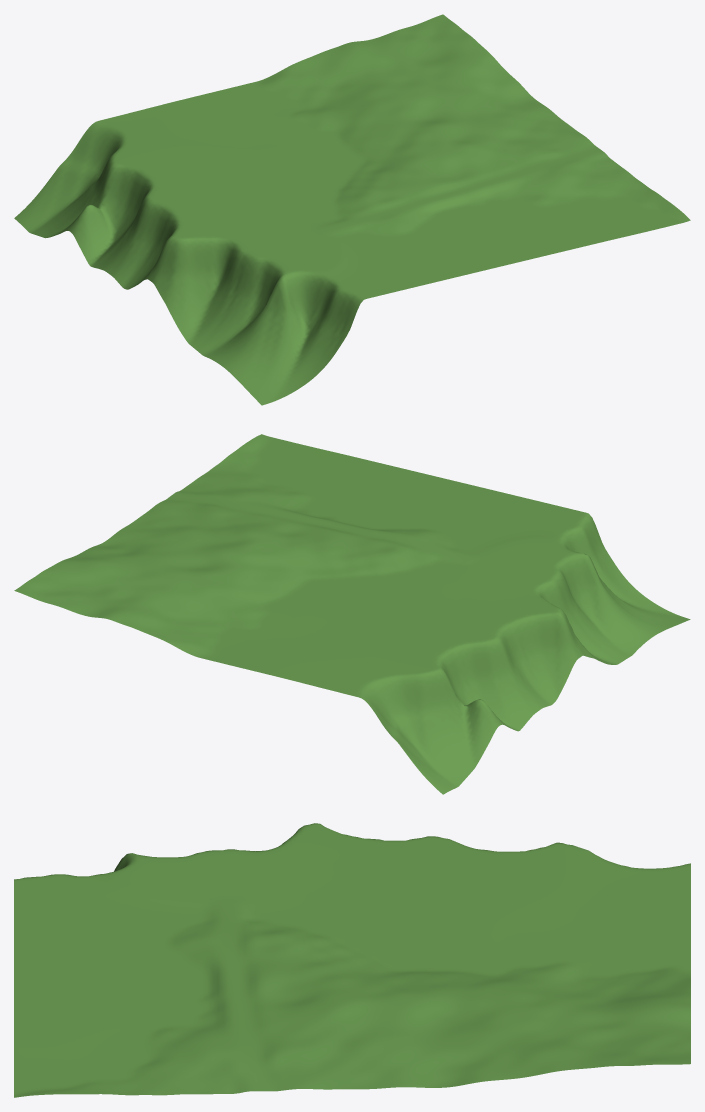
File: SM_Terrain_01_04.fbx
The picture shows the model from 3 angles, top to bottom: view 1: azimuth 30°, elevation 25°; view 2: azimuth 150°, elevation 25°; view 3: azimuth 270°, elevation 25°; orthographic projection. The views are drawn at different scales.
Visible parts, largest first — view 1: SM_Terrain_01_04; view 2: SM_Terrain_01_04; view 3: SM_Terrain_01_04.
Part boxes in pixels (x1,y1,x2,y2): SM_Terrain_01_04: [14, 14, 690, 405]; SM_Terrain_01_04: [14, 434, 690, 794]; SM_Terrain_01_04: [14, 823, 690, 1097].
Size of the model in its own units: 384 by 89.98 by 384.
